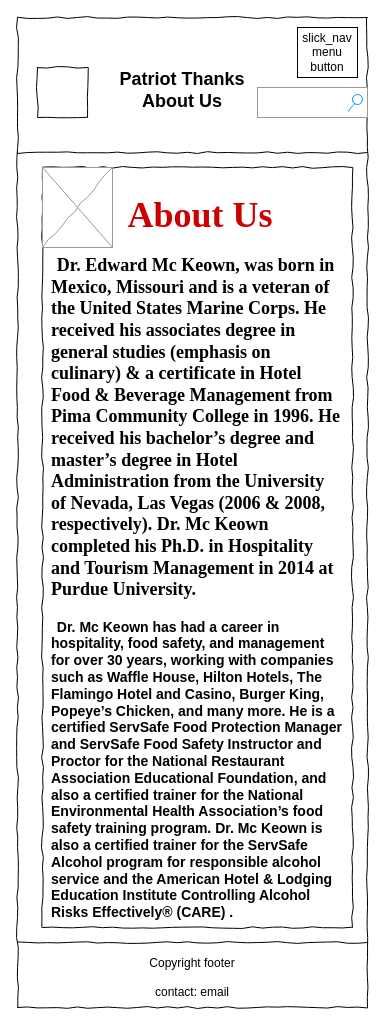
Image size: 385x1025. Some labels were removed from this diagram. Each missing label, with the centre of its shape:
LOGO: point 62,92
Search: point 312,102
